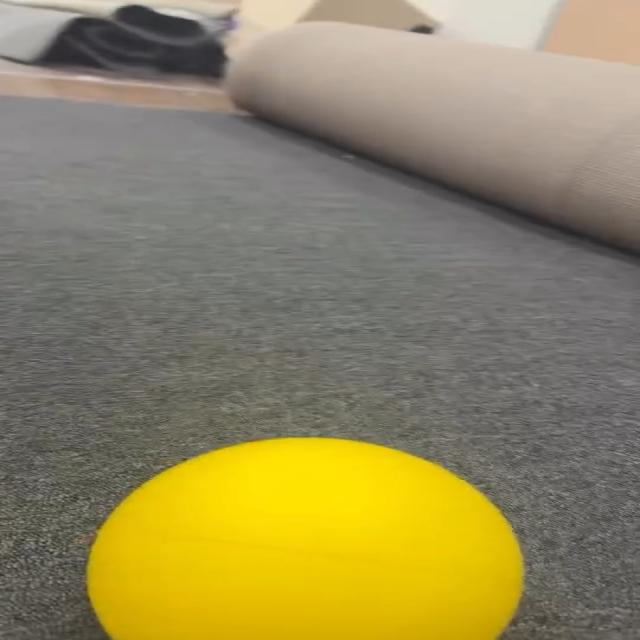Fuels: (87, 437, 517, 637)
